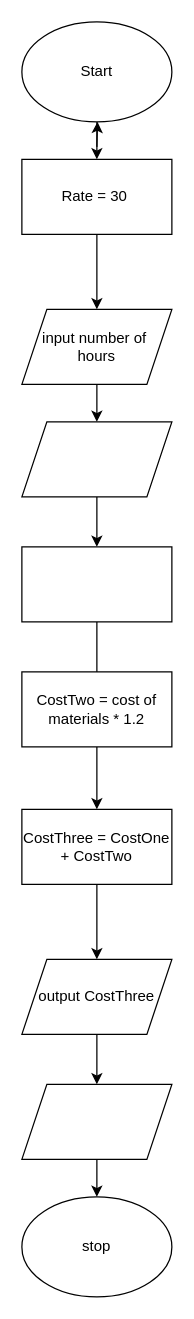
This 194x1319 diagram has some shape labels left out. Each missing label, with the centre of its shape:
CostOne = number of hours * 30: point (96, 584)
input cost of materials: point (96, 459)
output End of program: point (96, 1121)
